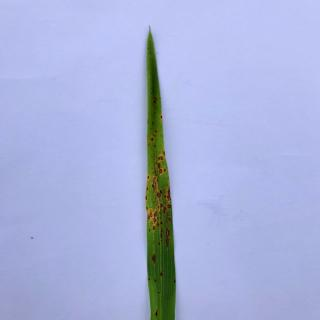Blast: (144, 246, 163, 264), (146, 208, 162, 227), (160, 213, 182, 224), (161, 188, 175, 205), (148, 126, 160, 140), (163, 228, 173, 244), (154, 152, 167, 164), (155, 161, 166, 175), (156, 110, 168, 122), (150, 176, 160, 190), (152, 304, 161, 318), (155, 187, 163, 199)
